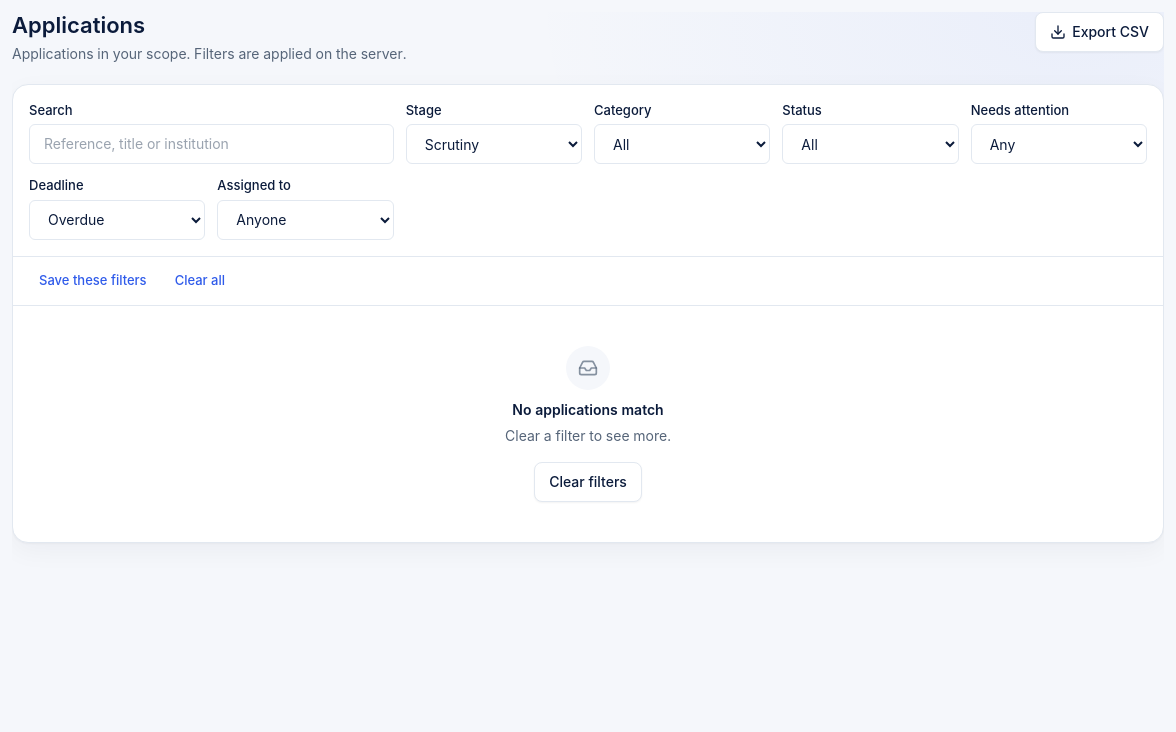
Test: saved filters › saves the current filters under a name, applies them again, and deletes them
Step 1. Click the button "Save these filters" → x=93, y=280, box [29,264,157,296]
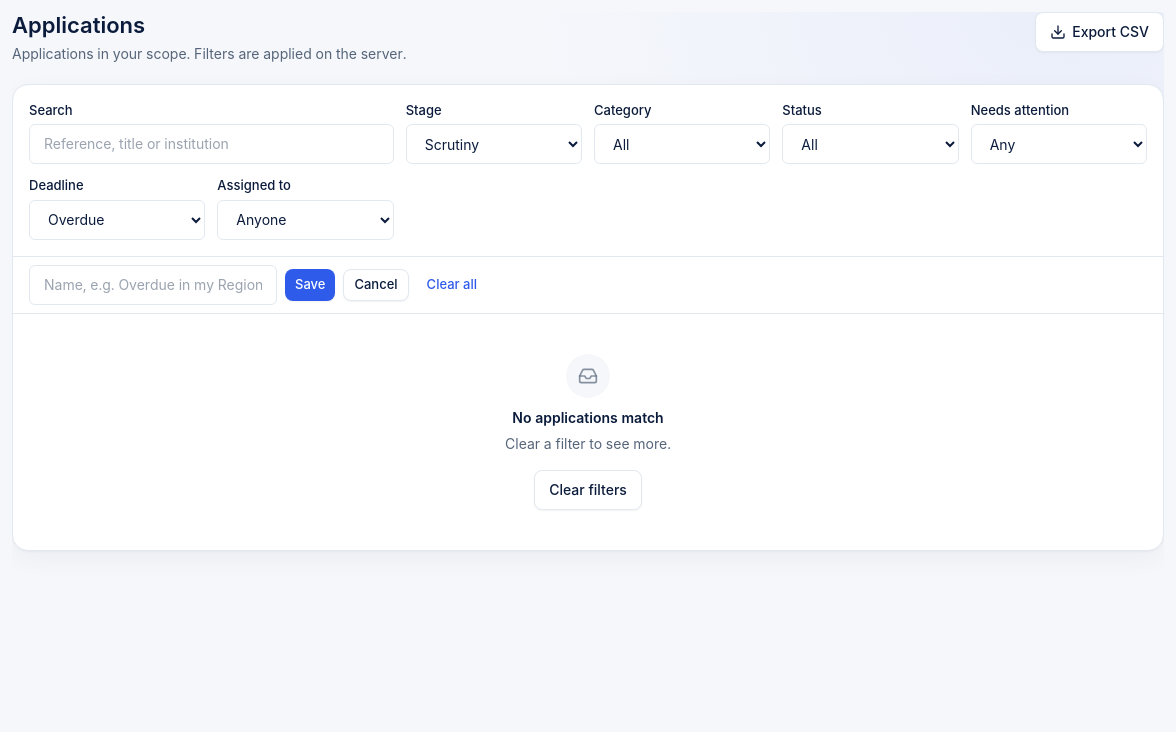
Step 2. Type "Overdue scrutiny" into the field named "Name for this filter" → x=153, y=284, box [29,264,277,304]
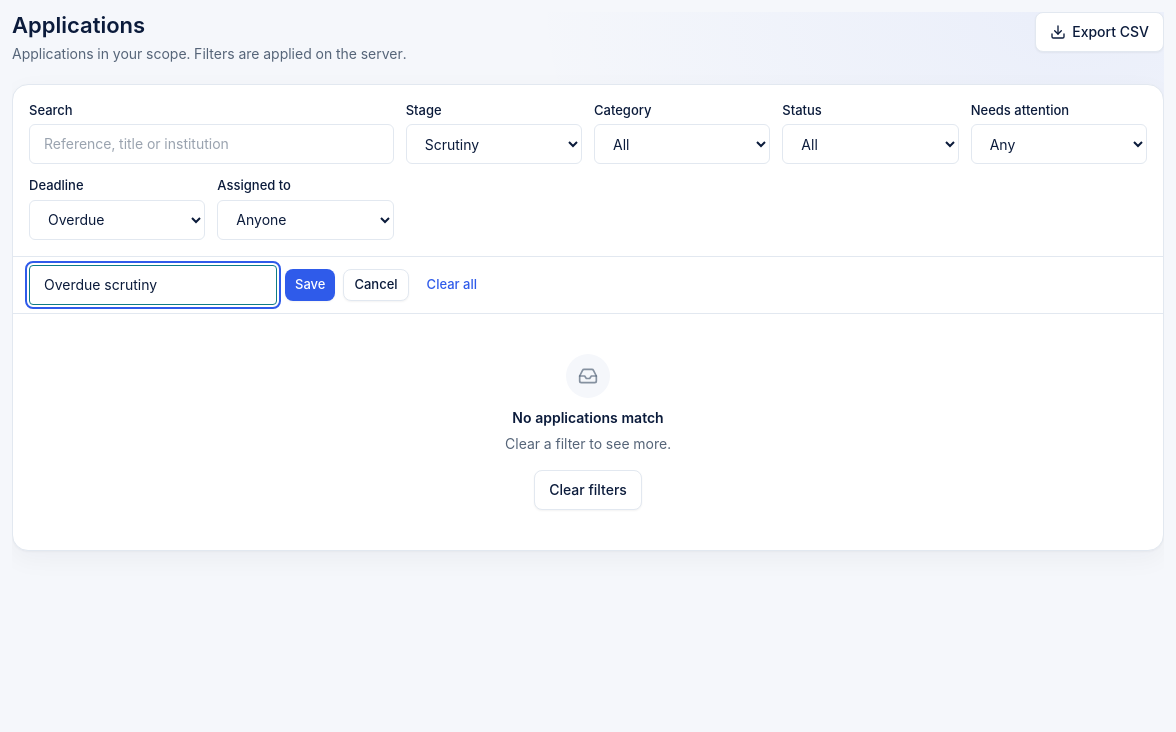
Step 3. Click the button "Save" → x=310, y=284, box [285,268,335,300]
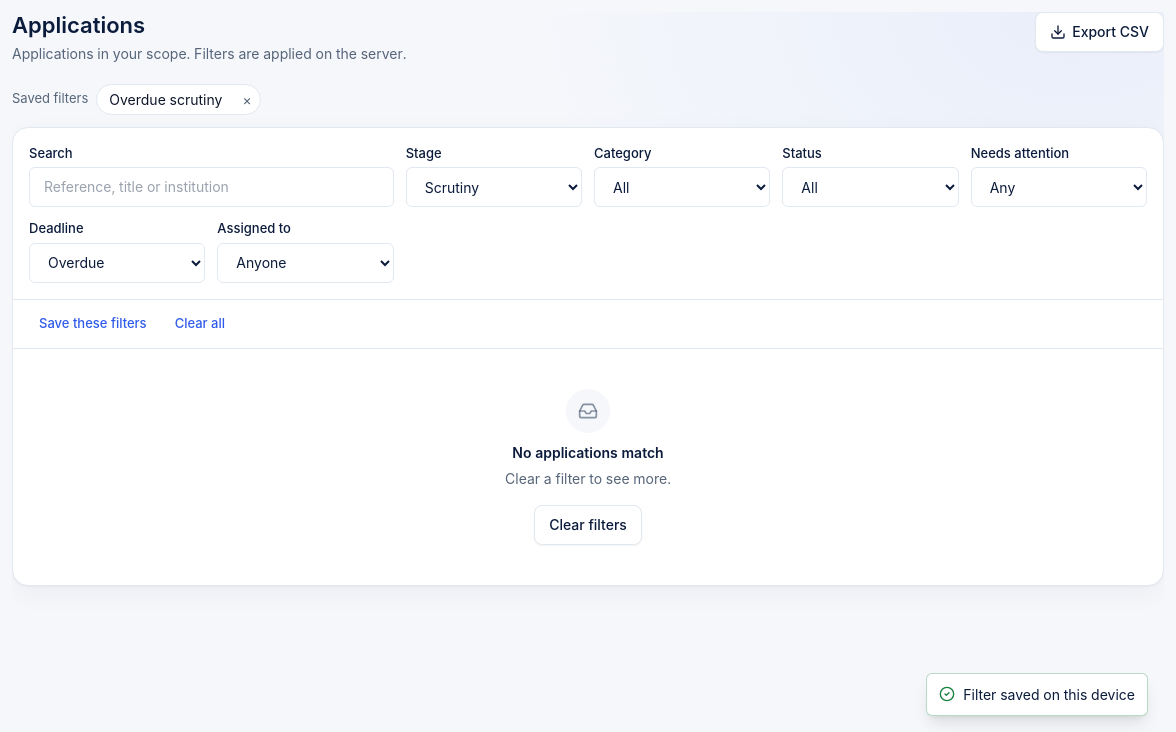
Check: the button "Overdue scrutiny" is shown, box [97,84,234,114]
Step 4. Click the button named "Delete saved filter Overdue scrutiny" → x=247, y=99, box [234,84,260,114]
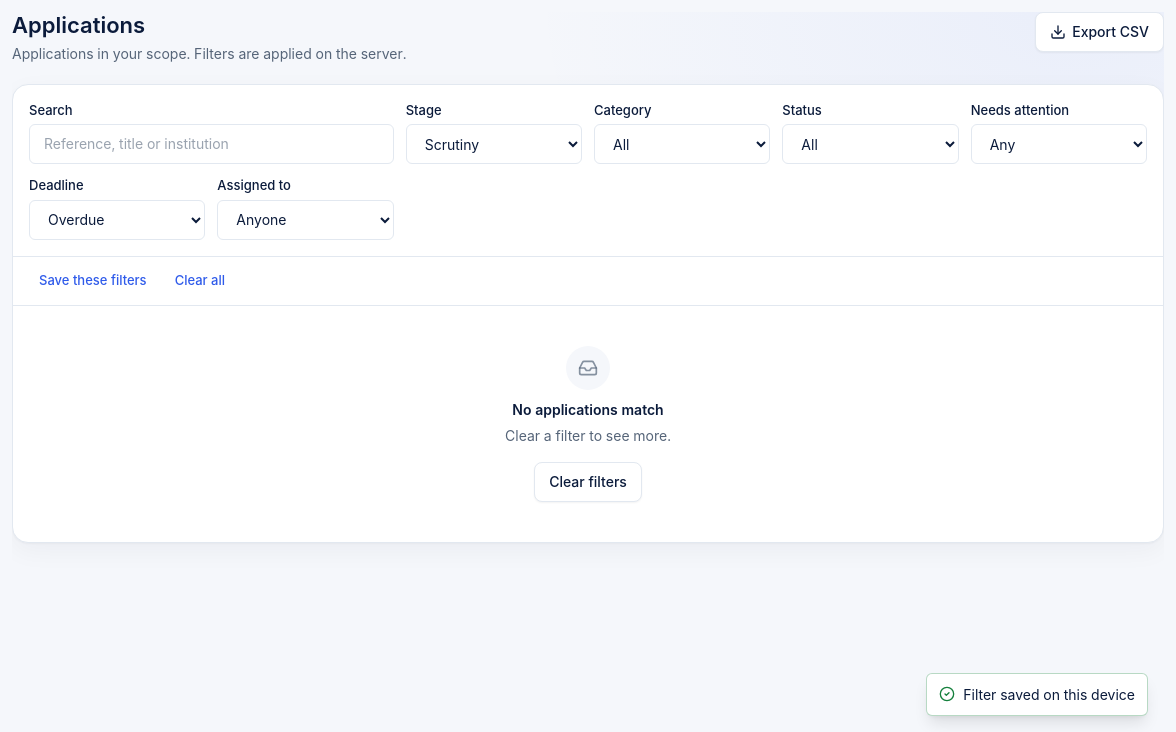
Check: the text "Saved filters" is gone
